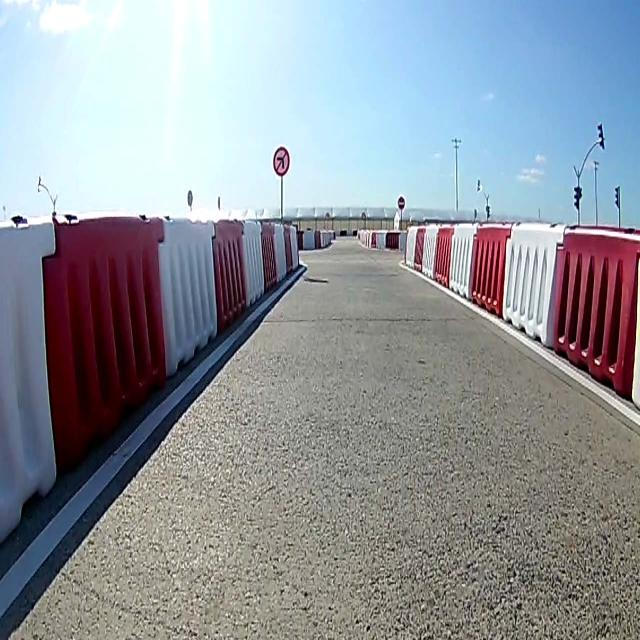girisyok: (397, 196, 405, 210)
soladonulmez: (272, 146, 290, 176)
